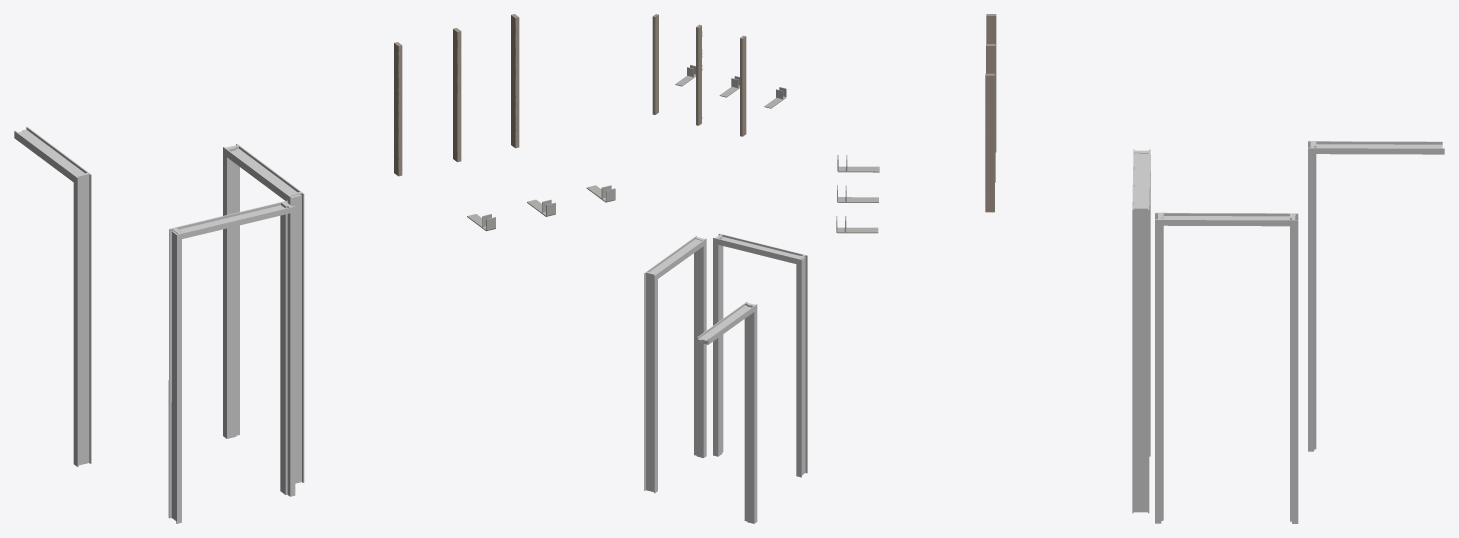
The picture shows the model from 3 angles, left to right: view 1: azimuth 30°, elevation 25°; view 2: azimuth 150°, elevation 25°; view 3: azimuth 270°, elevation 25°; orthographic projection. The views are drawn at different scales.
Size of the model in its own units: 2.72 by 4.07 by 4.34.
